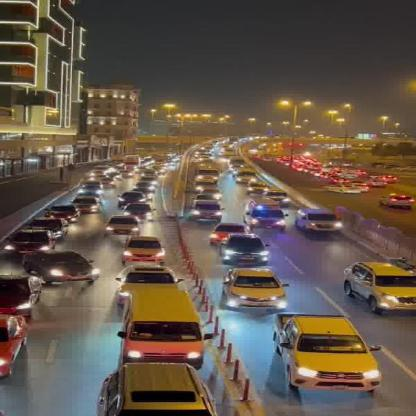car: (268, 312, 384, 398), (114, 286, 210, 372), (334, 256, 416, 312), (23, 250, 107, 288), (220, 268, 290, 312), (214, 230, 274, 266), (296, 207, 352, 244), (116, 233, 172, 263)
priority: (245, 197, 291, 230)
